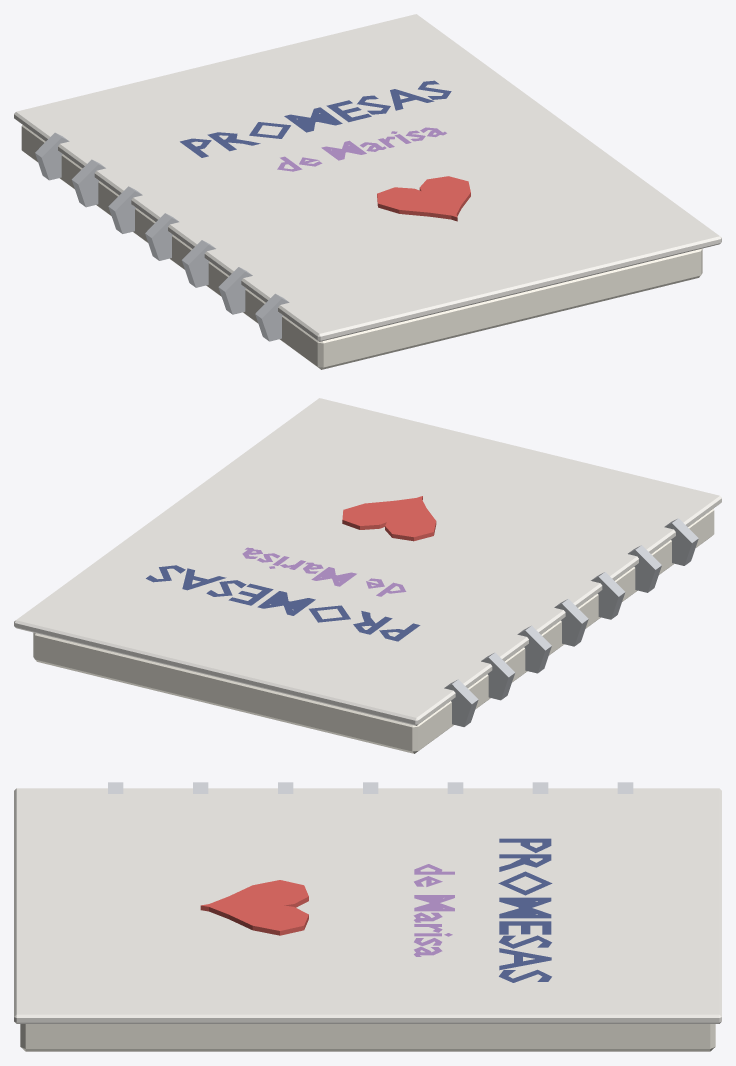
The model's file is prop_marisa_notebook_01.glb.
3 renders of one model, top to bottom at view 1: azimuth 30°, elevation 25°; view 2: azimuth 150°, elevation 25°; view 3: azimuth 270°, elevation 25°, orthographic. The views are drawn at different scales.
Parts seen in each view (by area): view 1: prop_marisa_notebook_01_body; view 2: prop_marisa_notebook_01_body; view 3: prop_marisa_notebook_01_body.
Boxes of the visible parts, x1,y1,x2,y2 form: prop_marisa_notebook_01_body: (14, 14, 721, 369); prop_marisa_notebook_01_body: (14, 398, 721, 753); prop_marisa_notebook_01_body: (14, 782, 721, 1051).
Bounding box in the file's own units: 0.2185 × 0.023 × 0.275.
